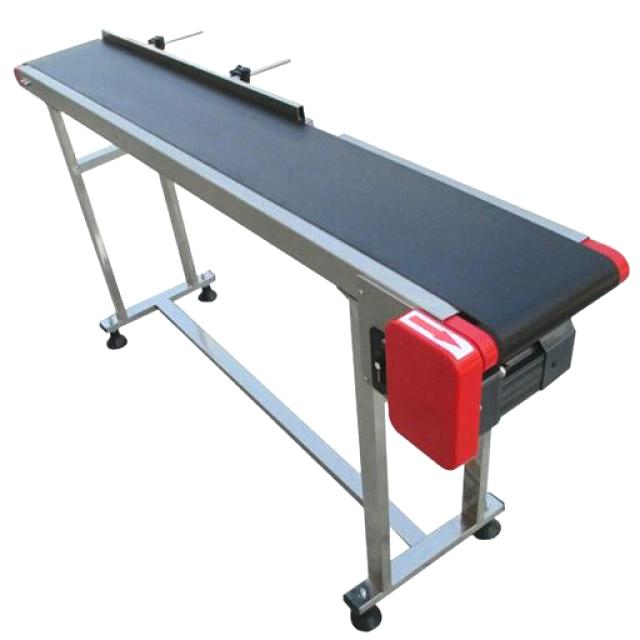conveyor: (22, 33, 630, 360)
